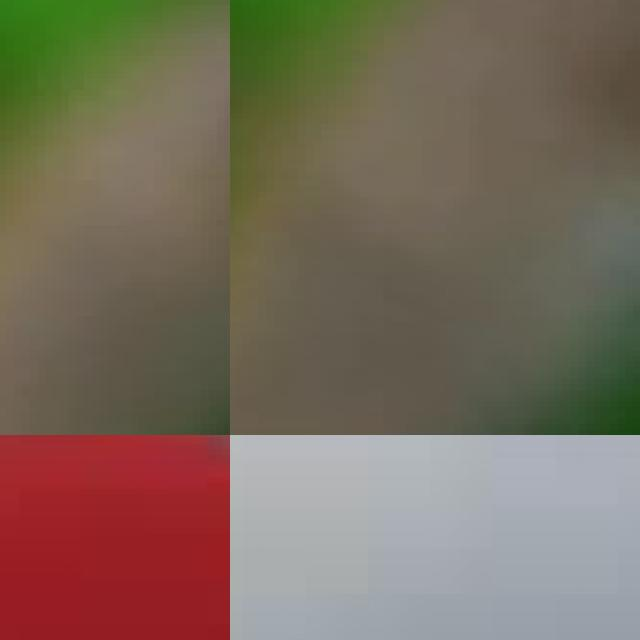fish: (230, 0, 640, 435), (0, 0, 230, 435)
